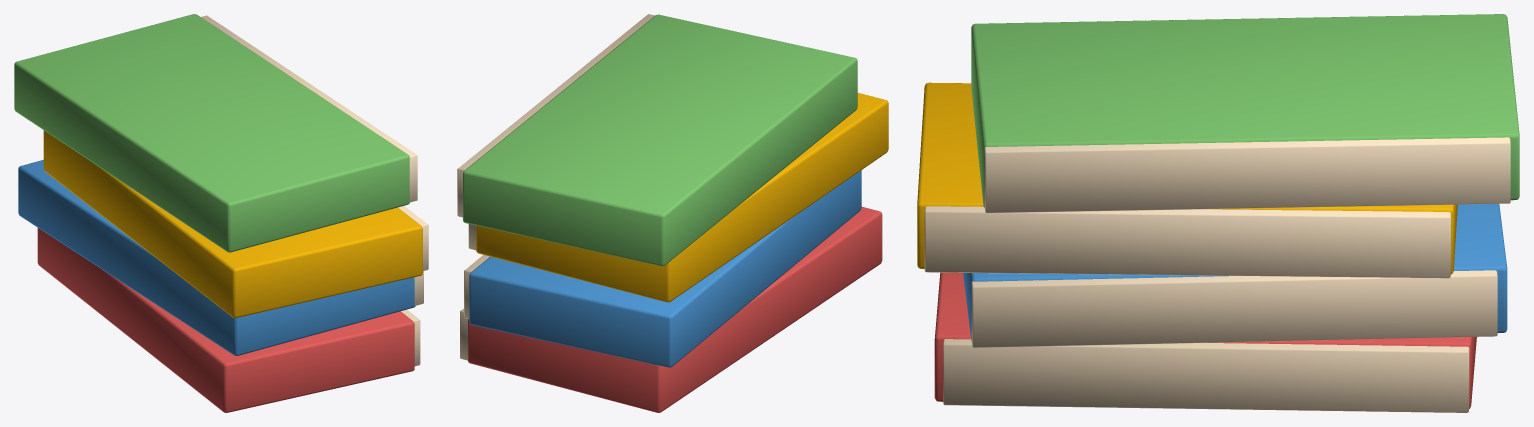
File: prop_book_stack_v2.glb
The picture shows the model from 3 angles, left to right: view 1: azimuth 30°, elevation 25°; view 2: azimuth 150°, elevation 25°; view 3: azimuth 270°, elevation 25°; orthographic projection. The views are drawn at different scales.
Parts seen in each view (by area): view 1: BookStackV2; view 2: BookStackV2; view 3: BookStackV2.
Boxes of the visible parts, x1=… form: BookStackV2: x1=14, y1=14, x2=428, y2=412; BookStackV2: x1=457, y1=14, x2=888, y2=412; BookStackV2: x1=917, y1=14, x2=1519, y2=412.
Bounding box in the file's own units: 2.45 × 2.2 × 4.49.
